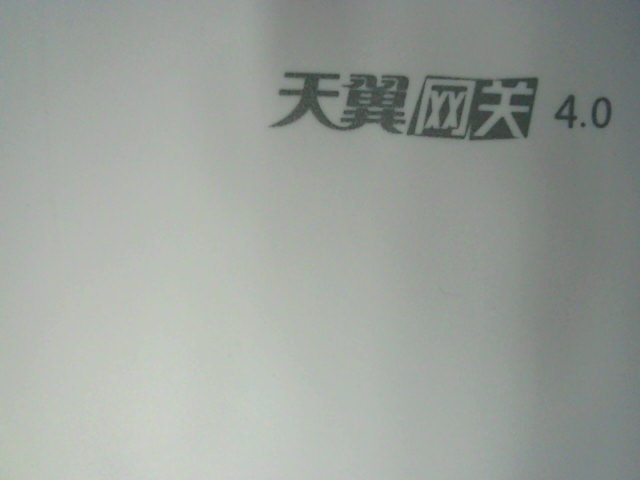BM_TianYiWangGuan: (263, 57, 623, 150)
